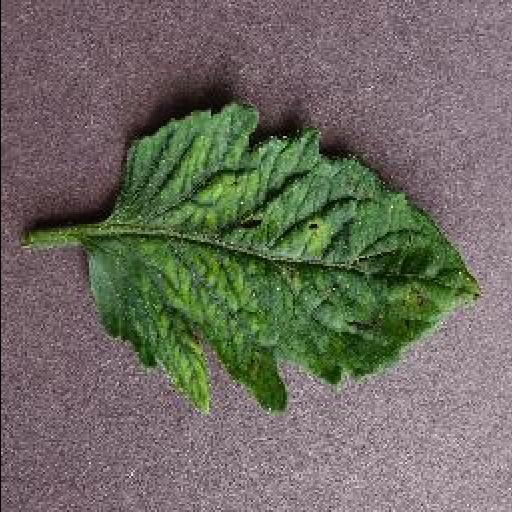Mosaic Virus: (82, 101, 484, 419)
